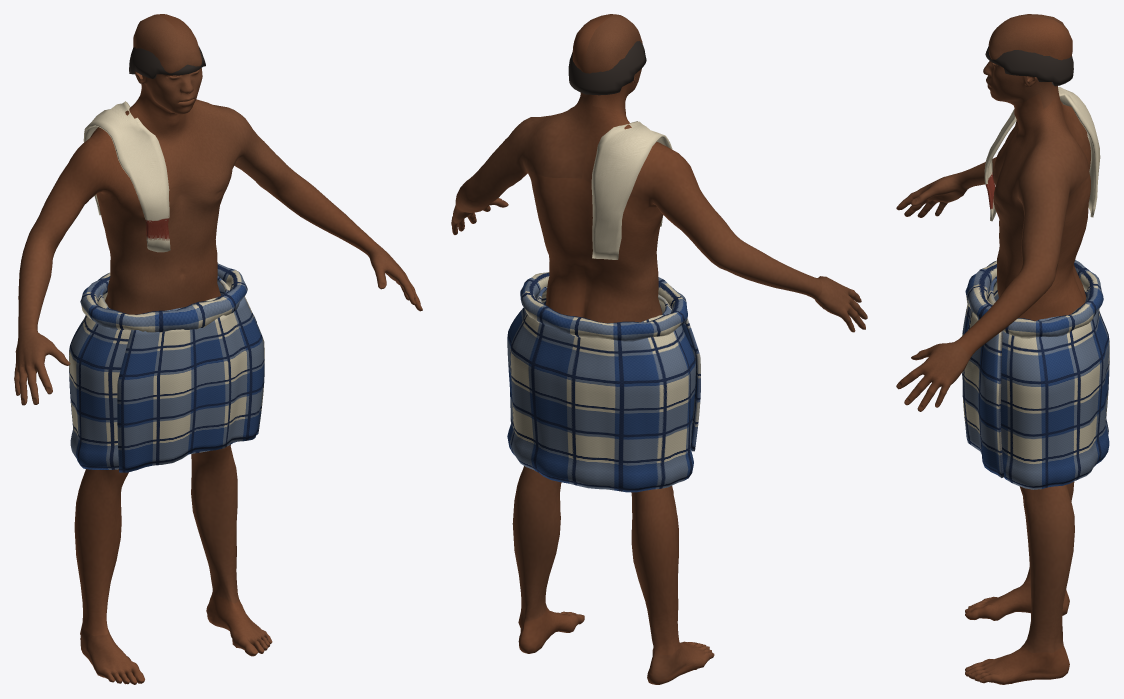
Rendered from farmer_man.fbx.
The picture shows the model from 3 angles, left to right: view 1: azimuth 30°, elevation 25°; view 2: azimuth 150°, elevation 25°; view 3: azimuth 270°, elevation 25°; orthographic projection.
Parts seen in each view (by area): view 1: Mixamo_farmer_man; view 2: Mixamo_farmer_man; view 3: Mixamo_farmer_man.
Boxes of the visible parts, x1,y1,x2,y2 form: Mixamo_farmer_man: (14,14,422,684); Mixamo_farmer_man: (451,14,867,684); Mixamo_farmer_man: (896,14,1109,684).
Bounding box in the file's own units: 1.14 × 1.71 × 0.5259.
Materials: 4 (3 with a texture image).
